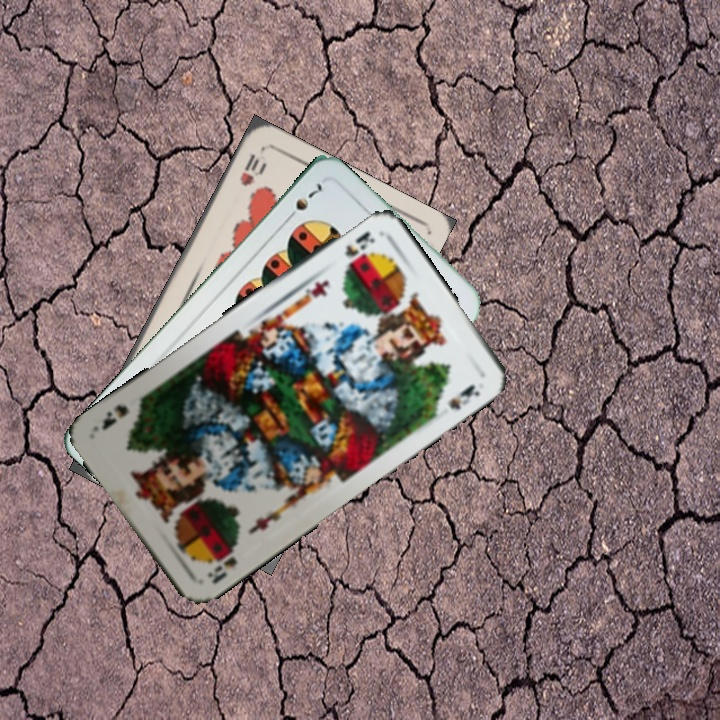H10: (235, 150, 267, 189)
S7: (281, 177, 327, 225)
SK: (203, 539, 243, 587), (340, 227, 378, 260)
